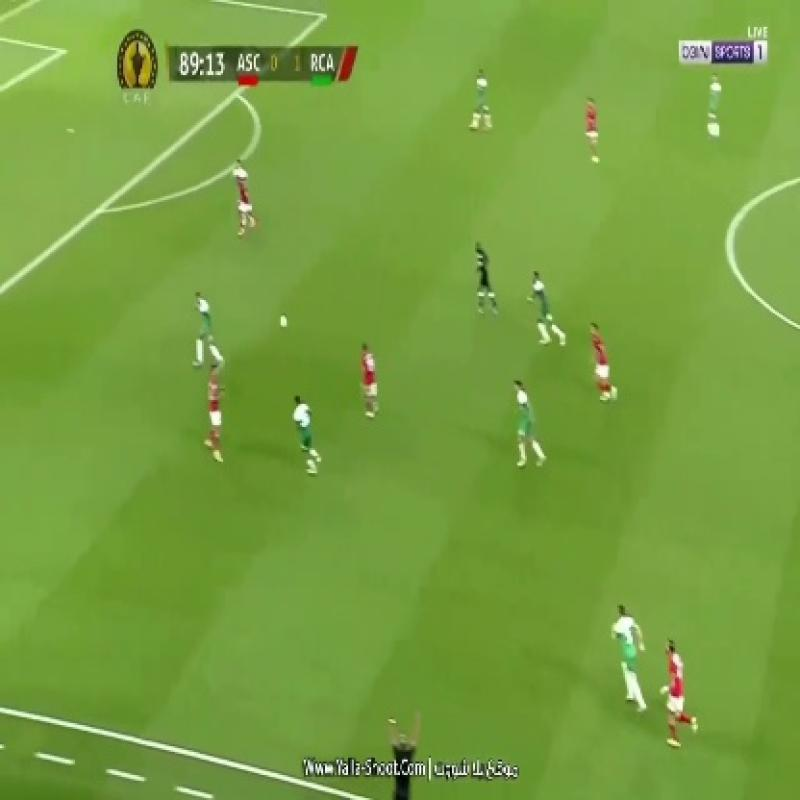10: (225, 79, 246, 104)
11: (86, 194, 110, 223)
7: (50, 38, 71, 64)
9: (312, 0, 330, 27)
c: (708, 208, 755, 274)
